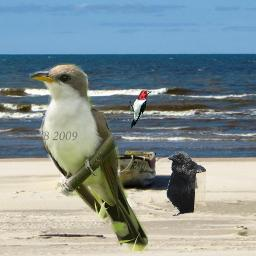Crow: (165, 151, 206, 216)
Cuckoo: (29, 62, 148, 251)
Woodpecker: (127, 90, 152, 130)
